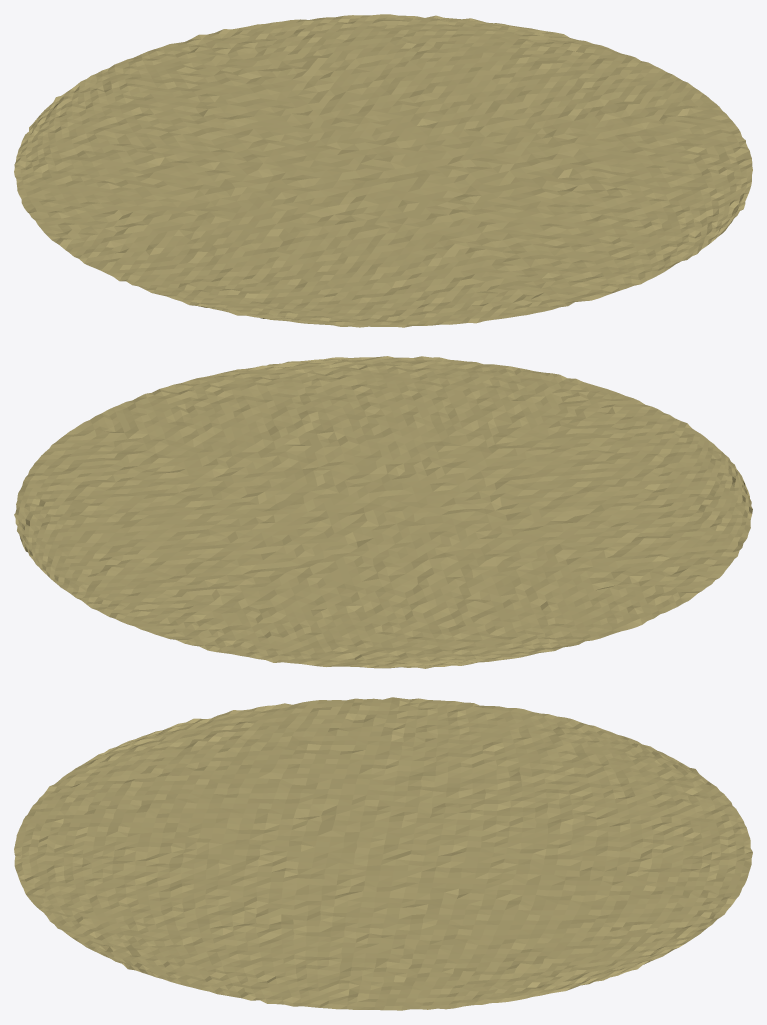
The model's file is world_2_terrain.dae.
The picture shows the model from 3 angles, top to bottom: view 1: azimuth 30°, elevation 25°; view 2: azimuth 150°, elevation 25°; view 3: azimuth 270°, elevation 25°; orthographic projection.
Visible parts, largest first — view 1: Circle_001; view 2: Circle_001; view 3: Circle_001.
Part boxes in pixels (x1,y1,x2,y2): Circle_001: [14, 14, 752, 327]; Circle_001: [14, 356, 752, 668]; Circle_001: [14, 697, 752, 1010].
Bounding box in the file's own units: 128 × 128 × 0.7991.
